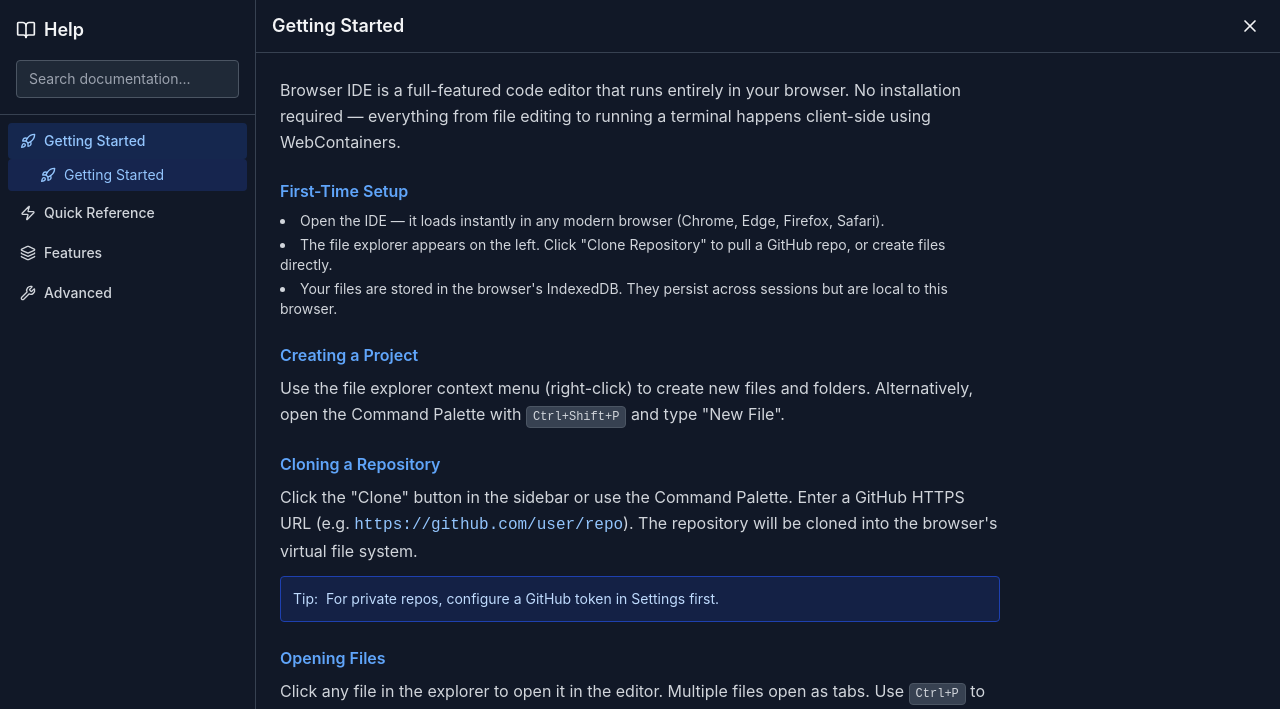
HelpPanel - Navigation › switches to Troubleshooting section
This screenshot has width=1280, height=709.
Click the button "Advanced" at (128, 293), box [8,275,247,311]
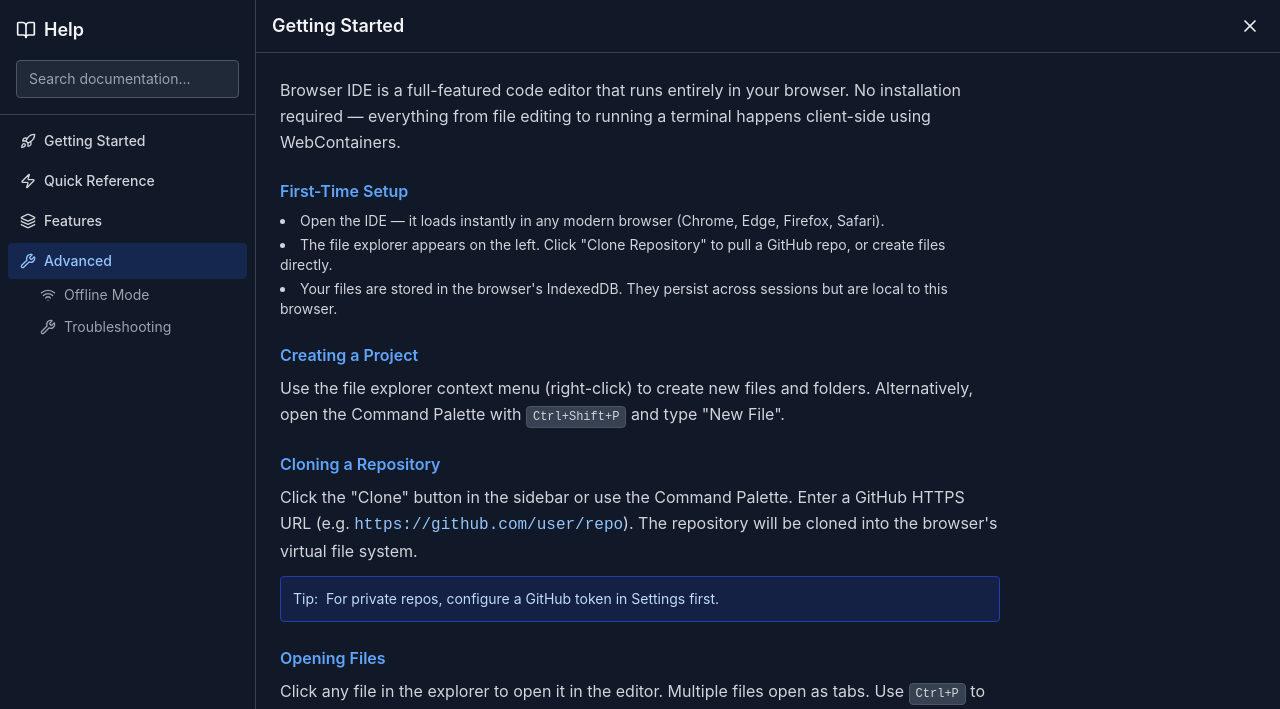
Click the button "Troubleshooting" at (128, 327), box [8,311,247,343]
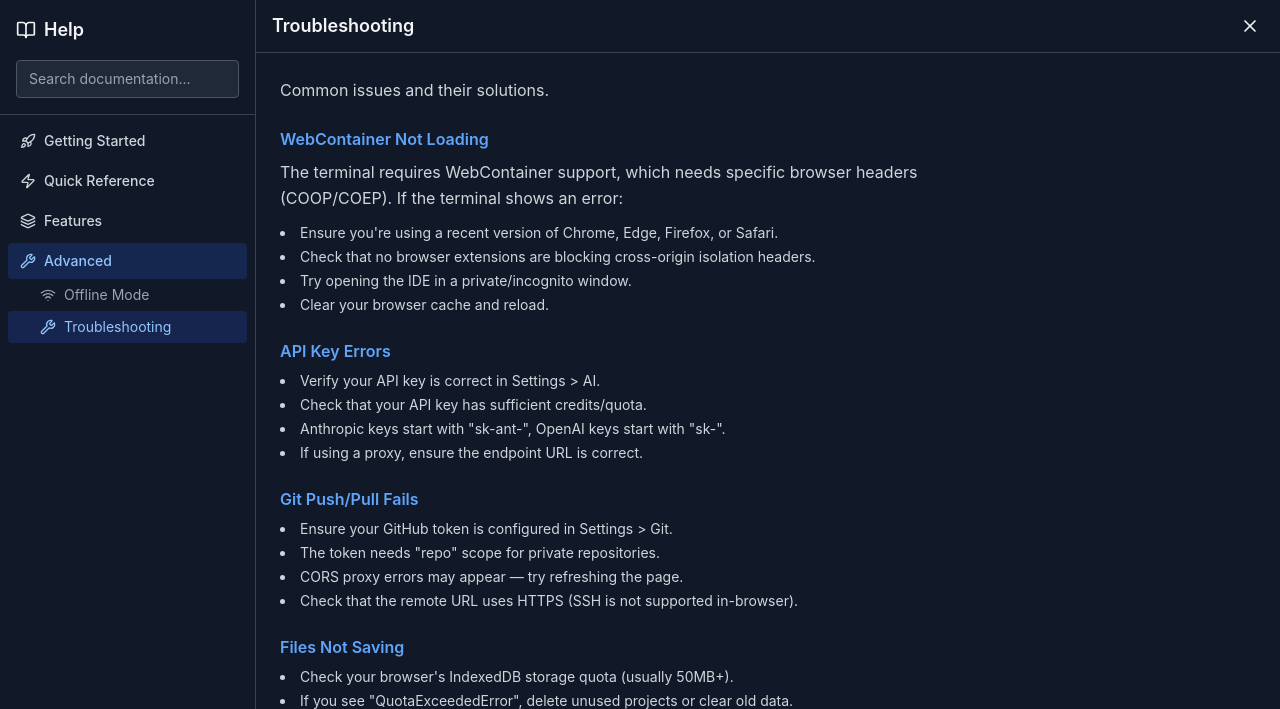
Now the heading "WebContainer Not Loading" is shown, box [280,129,489,149]
Now the heading "API Key Errors" is shown, box [280,341,391,361]
